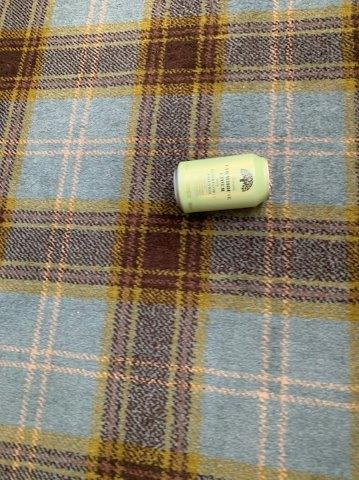kaleng: (174, 155, 270, 213)
